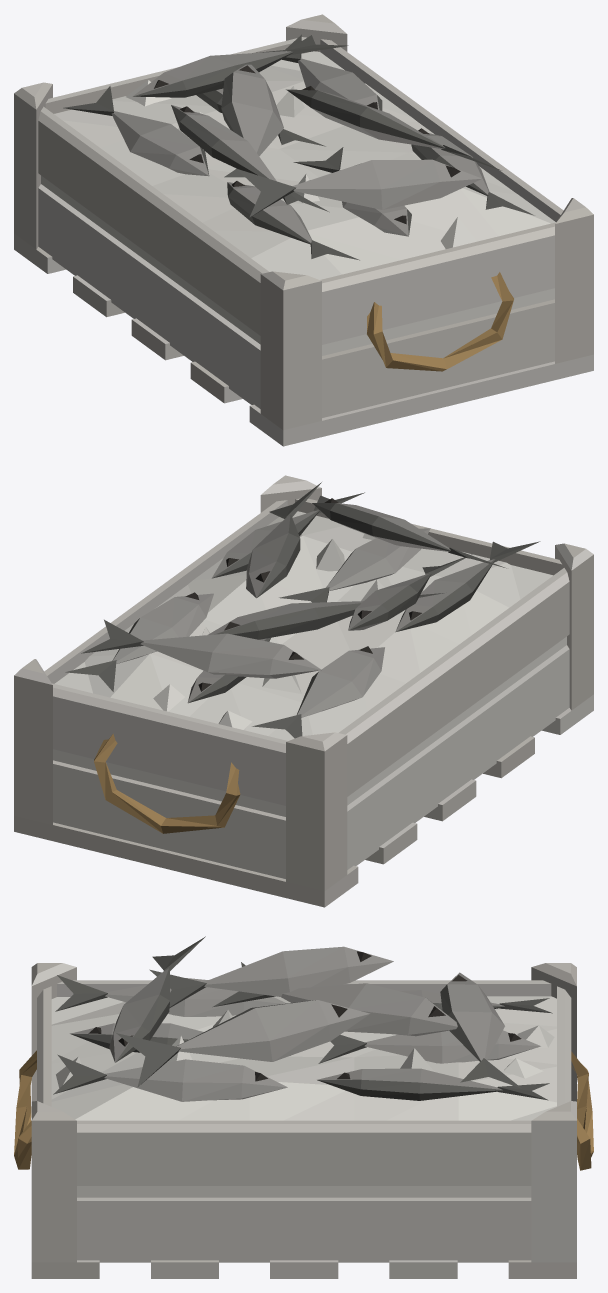
File: fish-crate-3c3f7b.glb
The picture shows the model from 3 angles, top to bottom: view 1: azimuth 30°, elevation 25°; view 2: azimuth 150°, elevation 25°; view 3: azimuth 270°, elevation 25°; orthographic projection.
Visible parts, largest first — view 1: crates; view 2: crates; view 3: crates.
Part boxes in pixels (x1,y1,x2,y2): crates: [14, 14, 593, 446]; crates: [14, 475, 593, 907]; crates: [14, 936, 593, 1278].
Size of the model in its own units: 0.4 by 0.2593 by 0.6382.
